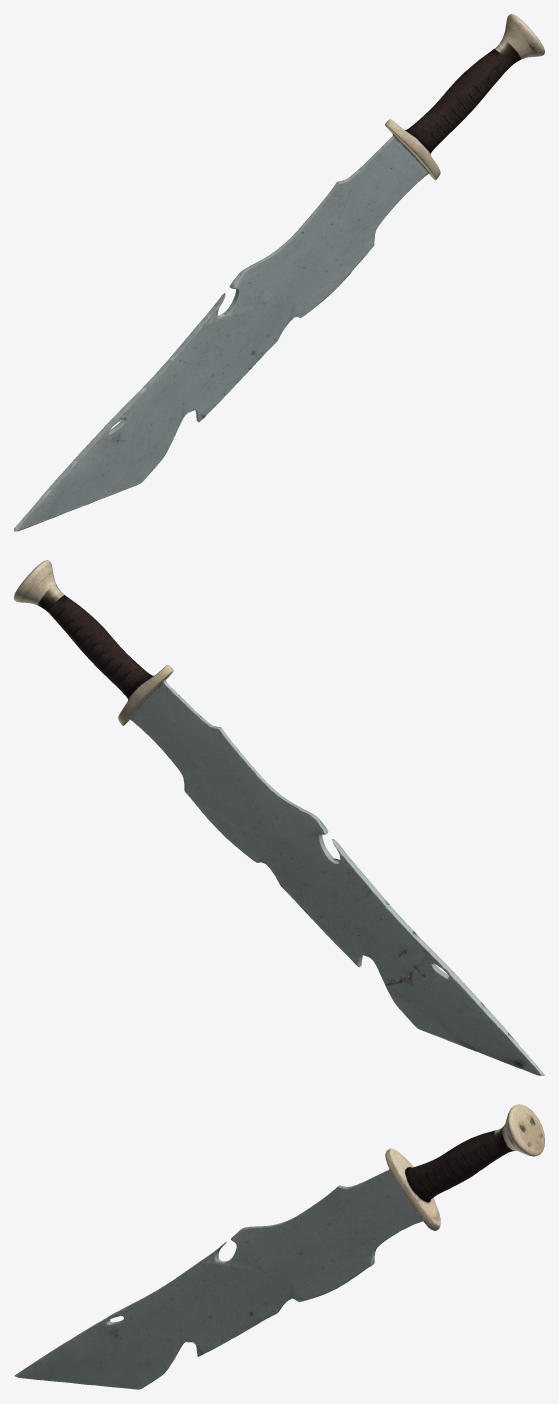
File: sword-2.glb
The picture shows the model from 3 angles, top to bottom: view 1: azimuth 30°, elevation 25°; view 2: azimuth 150°, elevation 25°; view 3: azimuth 330°, elevation 25°; orthographic projection.
Visible parts, largest first — view 1: Mesh_0; view 2: Mesh_0; view 3: Mesh_0.
Boxes of the visible parts, x1,y1,x2,y2 form: Mesh_0: [14, 14, 544, 531]; Mesh_0: [14, 560, 544, 1075]; Mesh_0: [14, 1104, 544, 1389].
Bounding box in the file's own units: 1.89 × 1.35 × 0.1511.
Materials: 1 (1 with a texture image).
